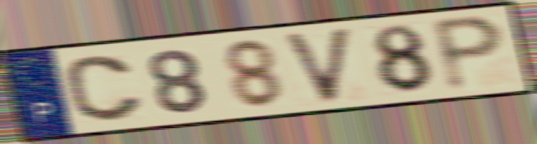8: (370, 22, 437, 96), (219, 37, 286, 110), (147, 48, 210, 115)
C: (61, 53, 147, 124)
P: (429, 13, 508, 95)
V: (279, 24, 355, 106)
